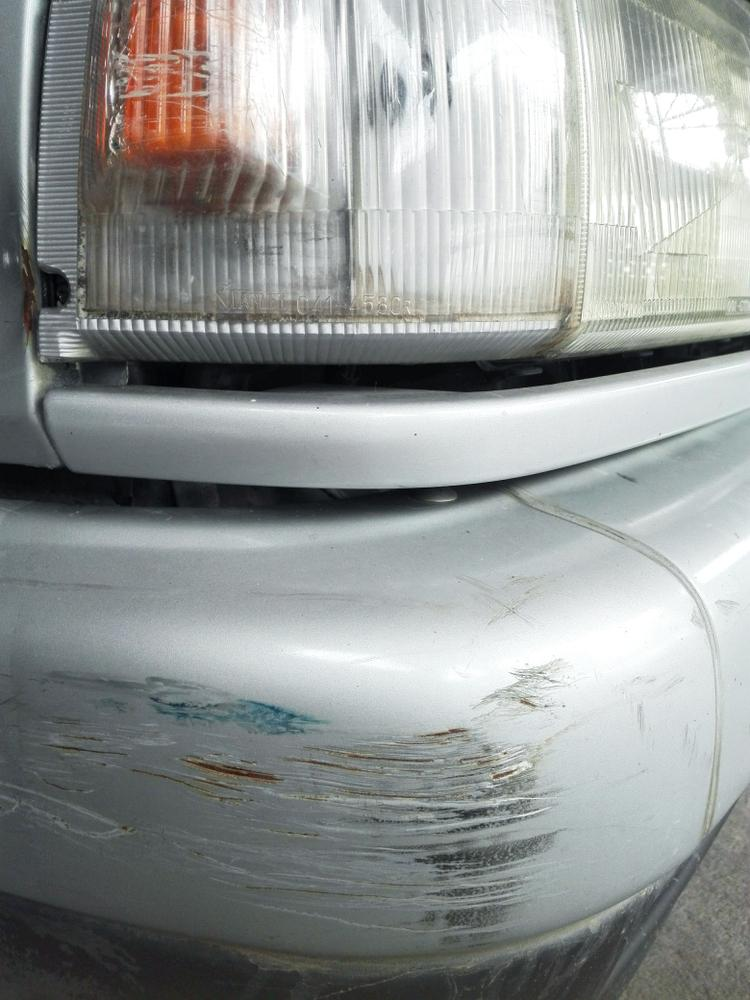scratch: (0, 659, 591, 941)
